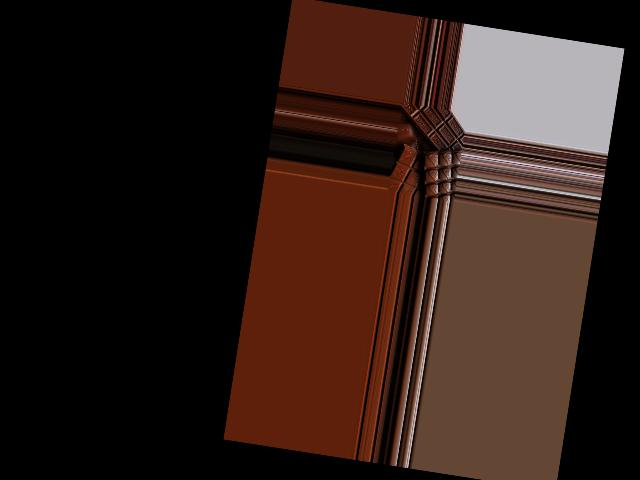chocolate: (391, 143, 437, 198)
